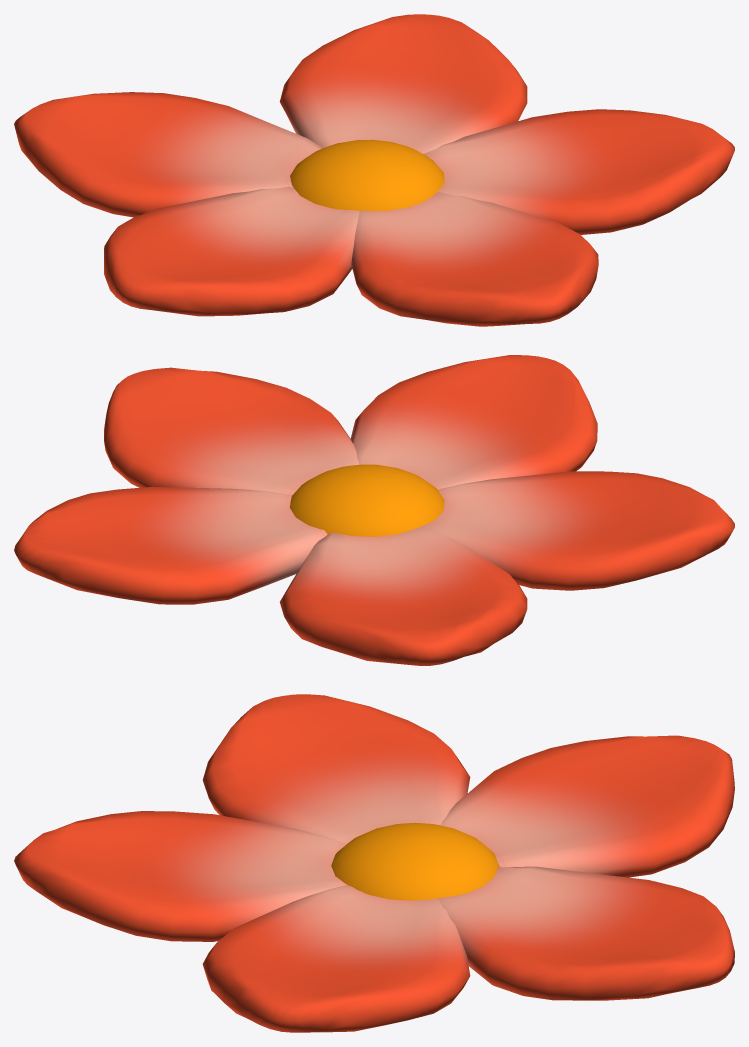
Rendered from hoa4.fbx.
3 views of the same model, one above another, from view 1: azimuth 30°, elevation 25°; view 2: azimuth 150°, elevation 25°; view 3: azimuth 270°, elevation 25° (orthographic). The views are drawn at different scales.
Parts seen in each view (by area): view 1: polySurface29, polySurface89, polySurface88, polySurface25, polySurface30, polySurface26; view 2: polySurface30, polySurface88, polySurface89, polySurface29, polySurface25, polySurface26; view 3: polySurface89, polySurface25, polySurface30, polySurface29, polySurface88, polySurface26.
Part boxes in pixels (x1,y1,x2,y2): polySurface29: [423, 109, 734, 234]; polySurface89: [14, 92, 322, 217]; polySurface88: [104, 186, 359, 316]; polySurface25: [351, 192, 598, 326]; polySurface30: [279, 14, 527, 153]; polySurface26: [290, 139, 444, 211]; polySurface30: [14, 486, 327, 604]; polySurface88: [422, 471, 734, 590]; polySurface89: [280, 526, 527, 665]; polySurface29: [104, 367, 359, 494]; polySurface25: [350, 355, 597, 489]; polySurface26: [289, 464, 444, 536]; polySurface89: [440, 735, 734, 877]; polySurface25: [14, 811, 346, 941]; polySurface30: [437, 866, 734, 1000]; polySurface29: [202, 884, 470, 1032]; polySurface88: [202, 694, 470, 843]; polySurface26: [331, 822, 499, 900].
Bounding box in the file's own units: 79.5 × 11.11 × 75.41.
Materials: 1 (1 with a texture image).
